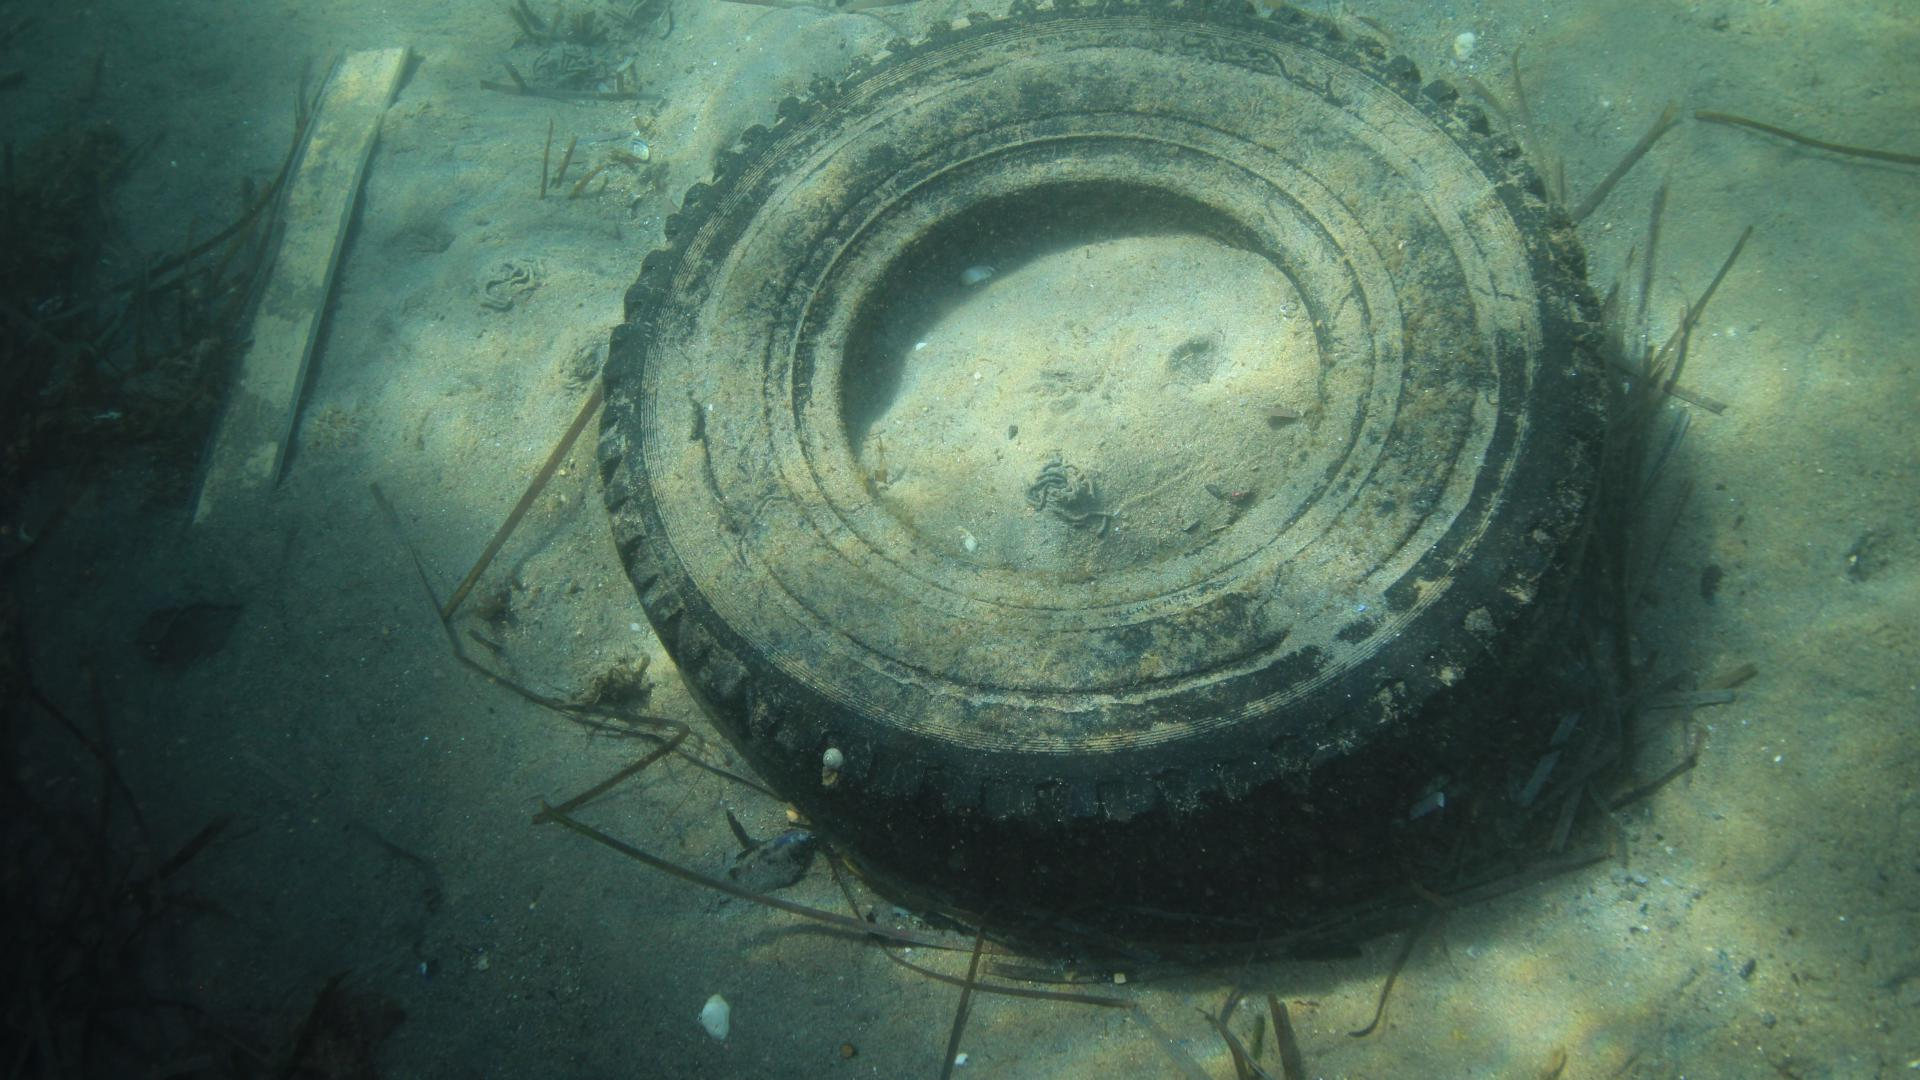tire: (592, 0, 1609, 940)
